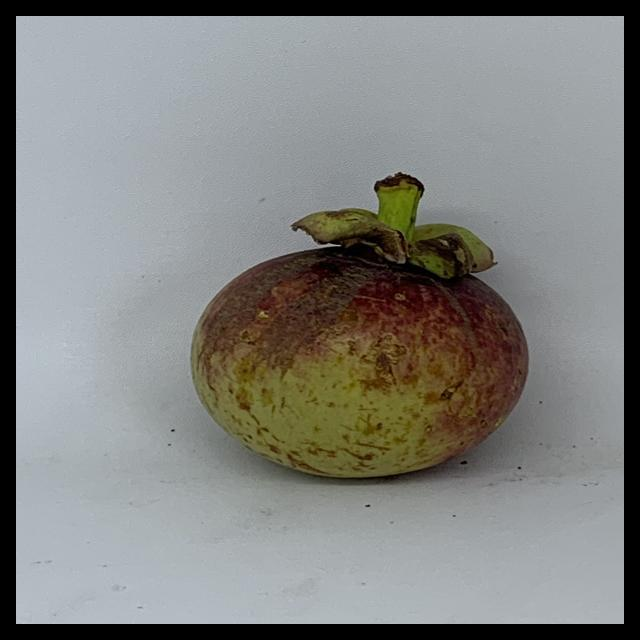mangosteen: (190, 163, 533, 488)
